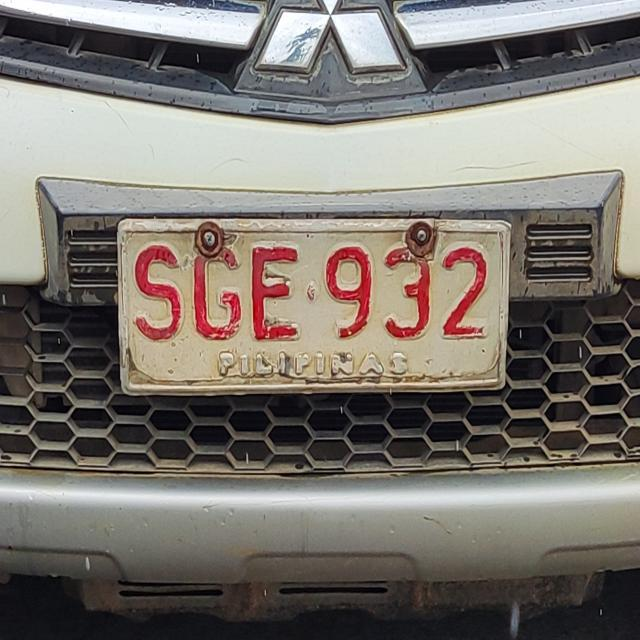LicensePlate: (106, 202, 526, 402)
